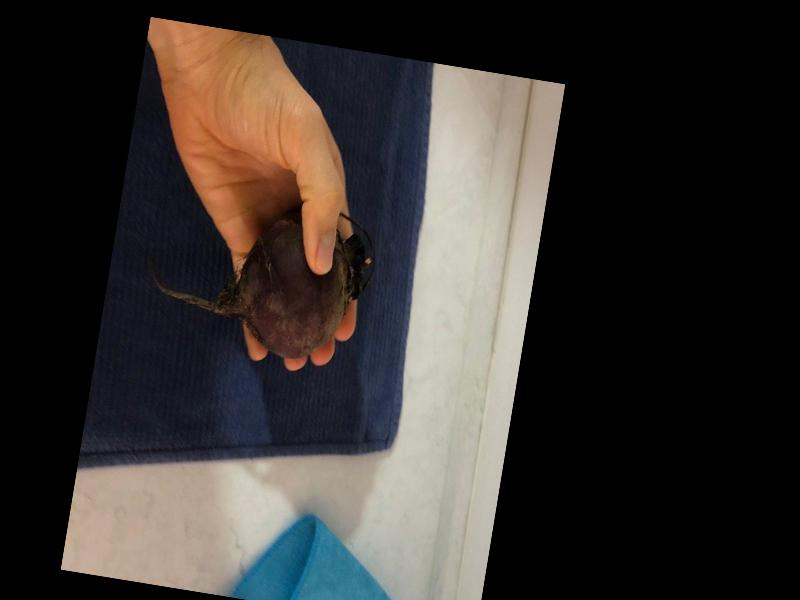Beet: (144, 183, 380, 368)
